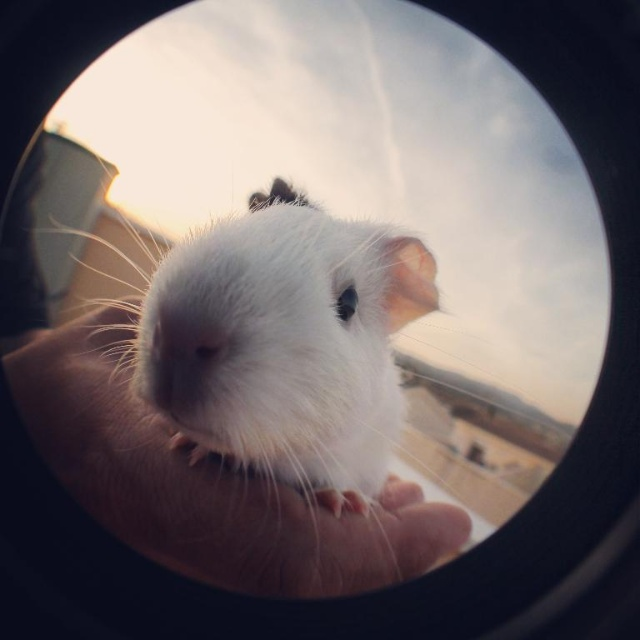Rabbit: (23, 125, 473, 590)
